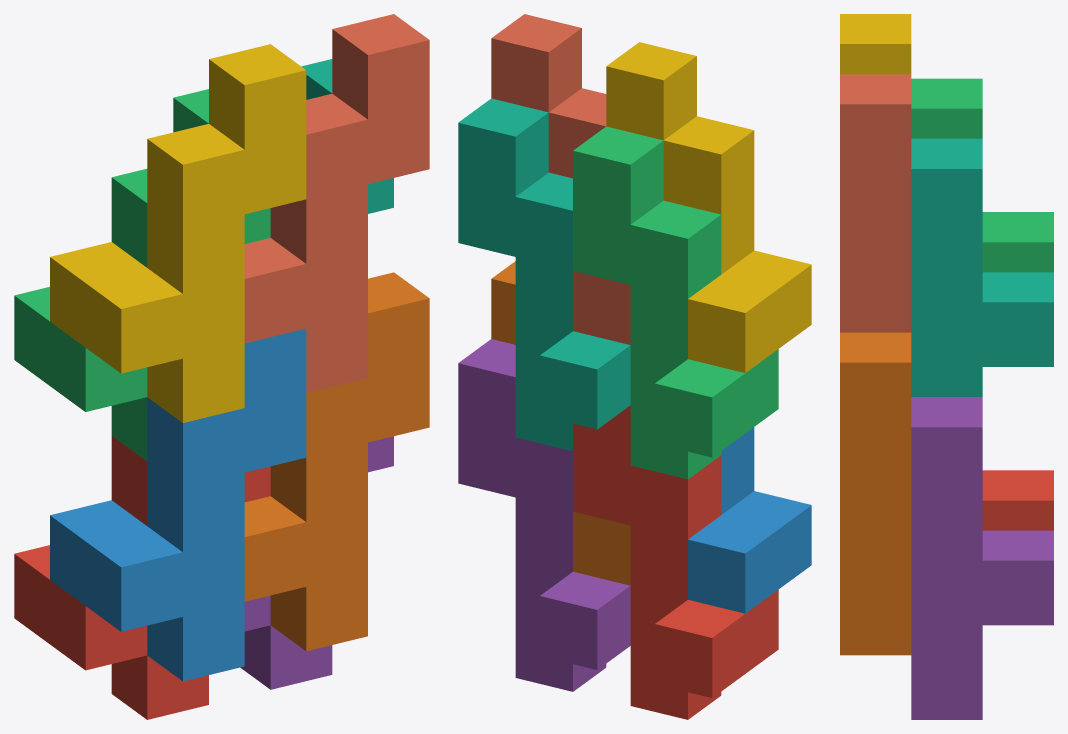
The model's file is tiling.obj.
3 renders of one model, left to right at view 1: azimuth 30°, elevation 25°; view 2: azimuth 150°, elevation 25°; view 3: azimuth 270°, elevation 25°, orthographic. The views are drawn at different scales.
Visible parts, largest first — view 1: copy_1_domain_4, copy_1_domain_2, copy_1_domain_8, copy_1_domain_6, copy_1_domain_1, copy_1_domain_3, copy_1_domain_5, copy_1_domain_7; view 2: copy_1_domain_3, copy_1_domain_7, copy_1_domain_1, copy_1_domain_4, copy_1_domain_5, copy_1_domain_8, copy_1_domain_2, copy_1_domain_6; view 3: copy_1_domain_5, copy_1_domain_7, copy_1_domain_6, copy_1_domain_8, copy_1_domain_3, copy_1_domain_1, copy_1_domain_4.
Part boxes in pixels (x1,y1,x2,y2): copy_1_domain_4: [50, 44, 306, 422]; copy_1_domain_2: [50, 328, 306, 681]; copy_1_domain_8: [244, 14, 429, 392]; copy_1_domain_6: [244, 272, 429, 651]; copy_1_domain_1: [14, 436, 270, 719]; copy_1_domain_3: [14, 89, 270, 461]; copy_1_domain_5: [240, 436, 393, 689]; copy_1_domain_7: [301, 59, 393, 213]; copy_1_domain_3: [573, 126, 778, 479]; copy_1_domain_7: [458, 98, 630, 451]; copy_1_domain_1: [573, 405, 778, 719]; copy_1_domain_4: [606, 42, 811, 372]; copy_1_domain_5: [458, 339, 630, 691]; copy_1_domain_8: [491, 14, 630, 344]; copy_1_domain_2: [688, 427, 811, 613]; copy_1_domain_6: [491, 261, 630, 585]; copy_1_domain_5: [911, 397, 1053, 719]; copy_1_domain_7: [911, 138, 1053, 396]; copy_1_domain_6: [840, 332, 911, 655]; copy_1_domain_8: [840, 74, 911, 332]; copy_1_domain_3: [911, 78, 1053, 272]; copy_1_domain_1: [982, 470, 1053, 530]; copy_1_domain_4: [840, 14, 911, 74].
Size of the model in its own units: 5 by 10 by 3.
